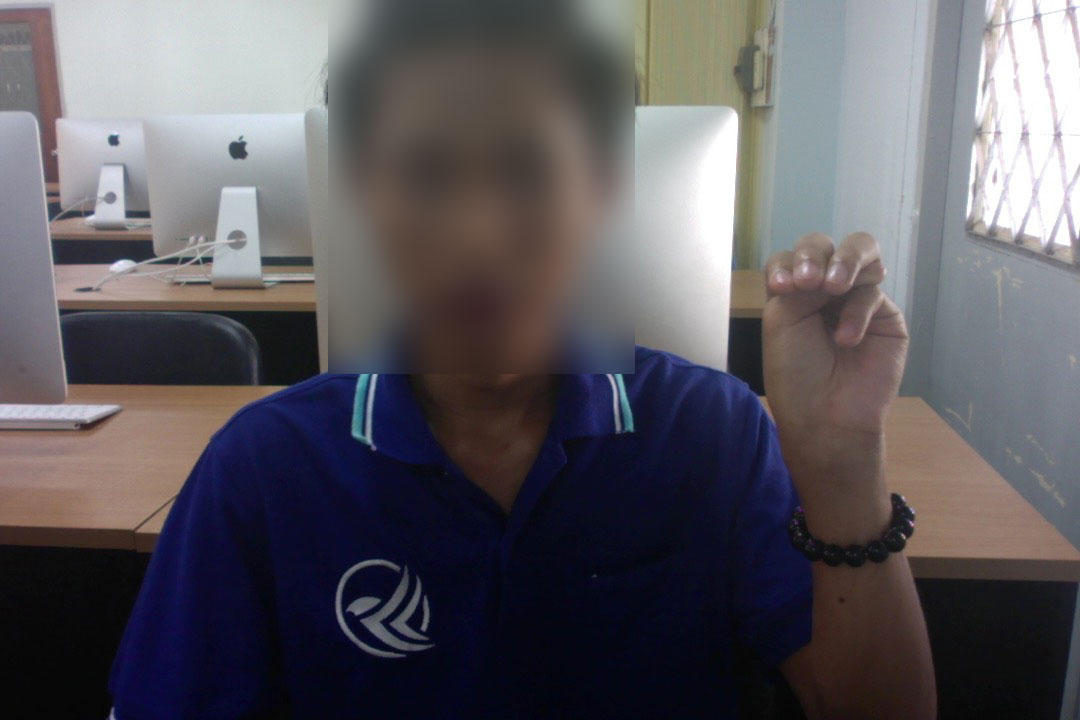mor: (757, 220, 914, 456)
